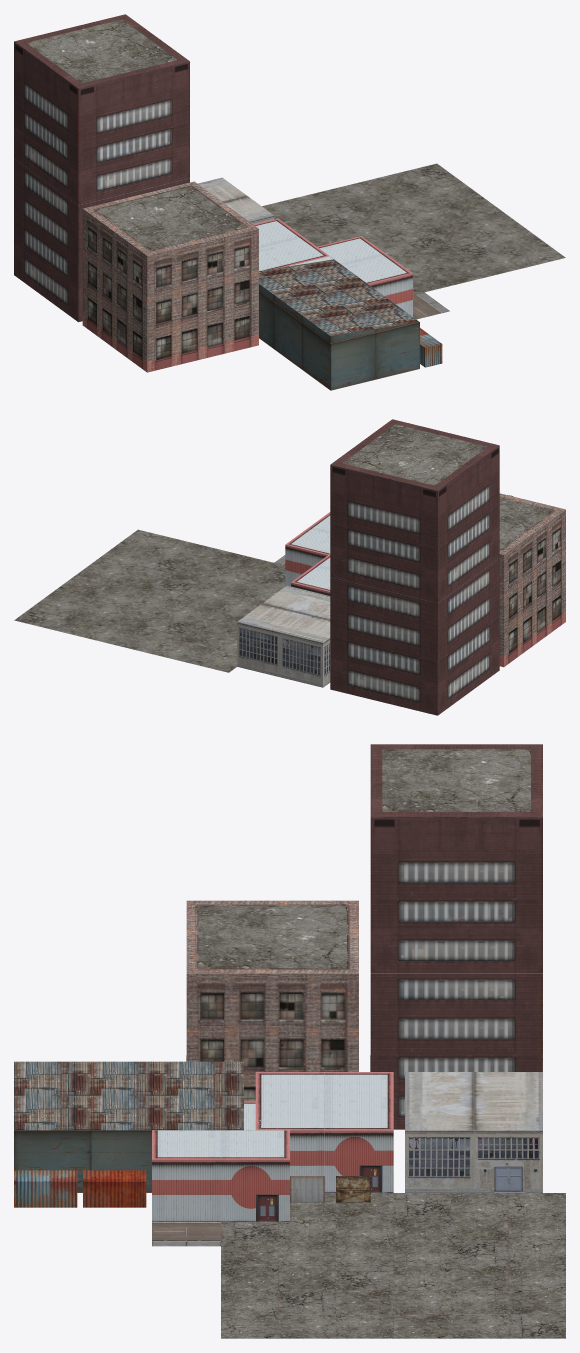
Rendered from BuildingC.fbx.
3 renders of one model, top to bottom at view 1: azimuth 30°, elevation 25°; view 2: azimuth 150°, elevation 25°; view 3: azimuth 270°, elevation 25°, orthographic. The views are drawn at different scales.
Visible parts, largest first — view 1: Building_D, Building_B, Ground, Building_E, Building_C.001, Building_C, Building_A, Container_B, Road; view 2: Building_D, Ground, Building_B, Building_A, Building_C.001, Building_C; view 3: Building_D, Ground, Building_B, Building_E, Building_A, Building_C, Building_C.001, Container_A, Container_B, Road, Metal_Fence, Metal_Gate.
Part boxes in pixels (left/top/right/bottom): Building_D: left=14, top=14, right=189, bottom=322; Building_B: left=82, top=181, right=258, bottom=372; Ground: left=262, top=163, right=565, bottom=294; Building_E: left=259, top=259, right=419, bottom=390; Building_C.001: left=289, top=236, right=412, bottom=316; Building_C: left=253, top=218, right=329, bottom=270; Building_A: left=198, top=177, right=273, bottom=224; Container_B: left=420, top=328, right=442, bottom=367; Road: left=413, top=292, right=449, bottom=319; Building_D: left=330, top=419, right=499, bottom=715; Ground: left=14, top=529, right=285, bottom=672; Building_B: left=499, top=493, right=565, bottom=667; Building_A: left=237, top=585, right=330, bottom=687; Building_C.001: left=285, top=512, right=330, bottom=586; Building_C: left=291, top=554, right=330, bottom=595; Building_D: left=370, top=744, right=542, bottom=1129; Ground: left=221, top=1193, right=565, bottom=1338; Building_B: left=186, top=900, right=358, bottom=1101; Building_E: left=14, top=1061, right=243, bottom=1192; Building_A: left=405, top=1072, right=542, bottom=1192; Building_C: left=255, top=1072, right=393, bottom=1192; Building_C.001: left=152, top=1101, right=289, bottom=1221; Container_A: left=83, top=1170, right=146, bottom=1207; Container_B: left=14, top=1170, right=77, bottom=1207; Road: left=152, top=1222, right=220, bottom=1246; Metal_Fence: left=290, top=1176, right=324, bottom=1202; Metal_Gate: left=336, top=1176, right=370, bottom=1202.
Bounding box in the file's own units: 5800 × 3015 × 4800.
Materials: 2 (2 with a texture image).
